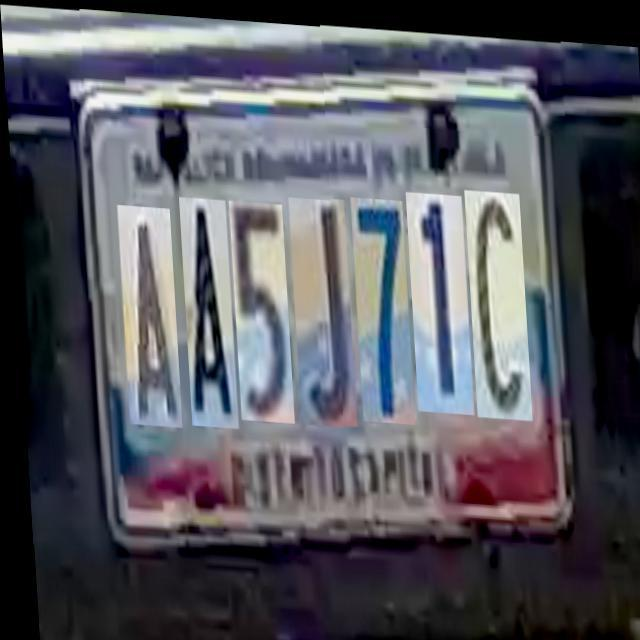1: (404, 186, 469, 408)
5: (227, 195, 290, 418)
7: (348, 192, 410, 419)
A: (114, 202, 177, 424), (176, 193, 234, 424)
C: (462, 183, 528, 413)
J: (286, 192, 352, 422)
